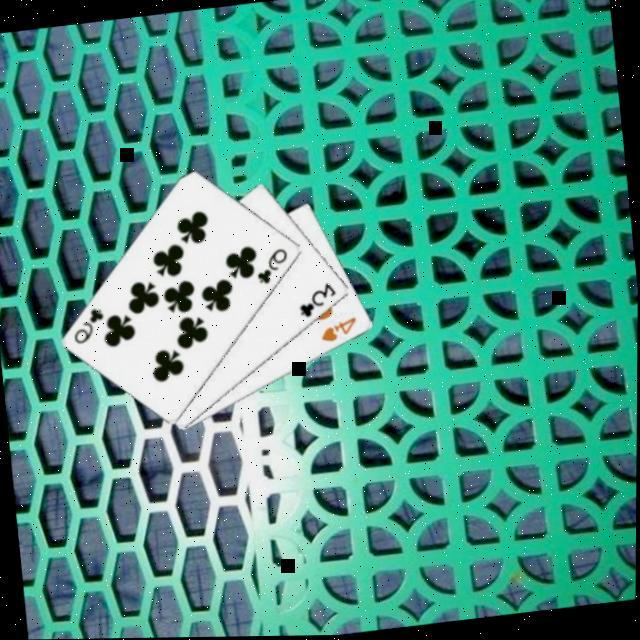3C: (292, 280, 340, 324)
4H: (314, 314, 360, 348)
9C: (66, 304, 108, 349), (250, 246, 292, 290)
